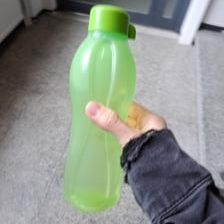bottle: (59, 2, 138, 211)
